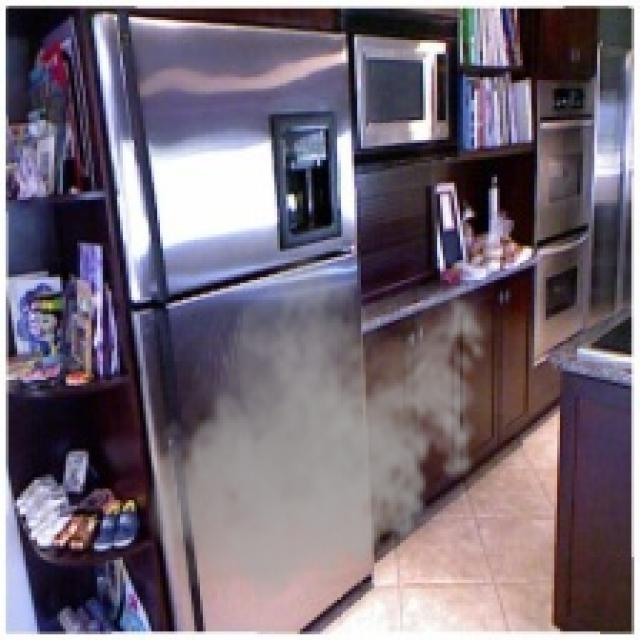smoke: (140, 255, 497, 614)
